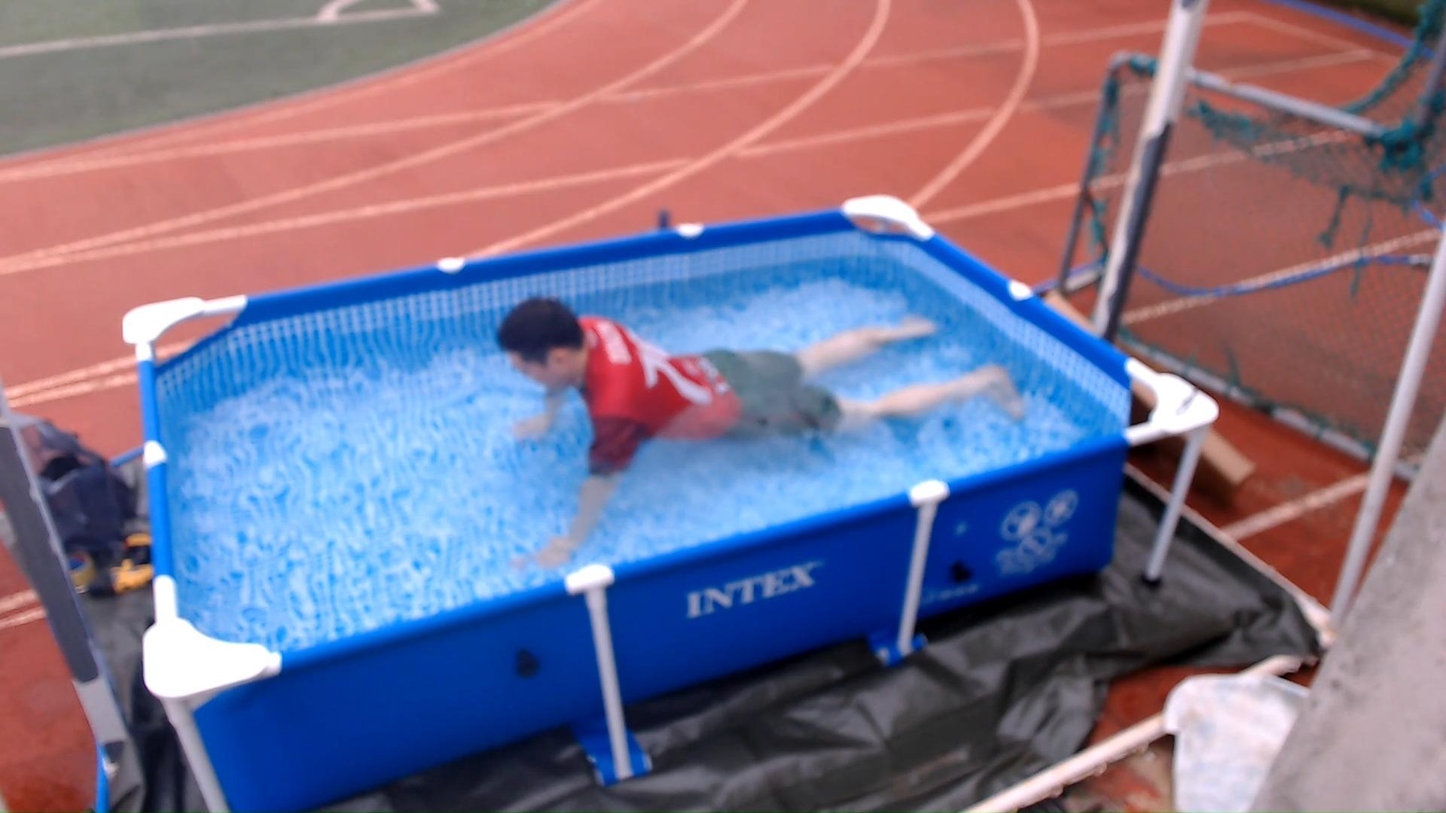Drowning: (419, 289, 1055, 505)
